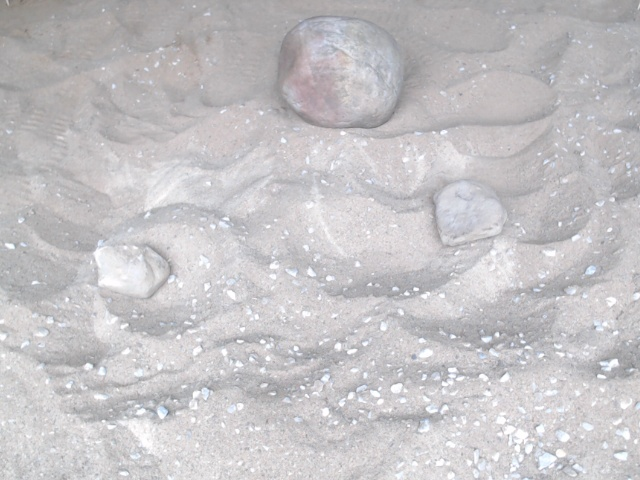rock: (272, 11, 409, 133), (427, 175, 510, 252), (87, 237, 174, 304)
